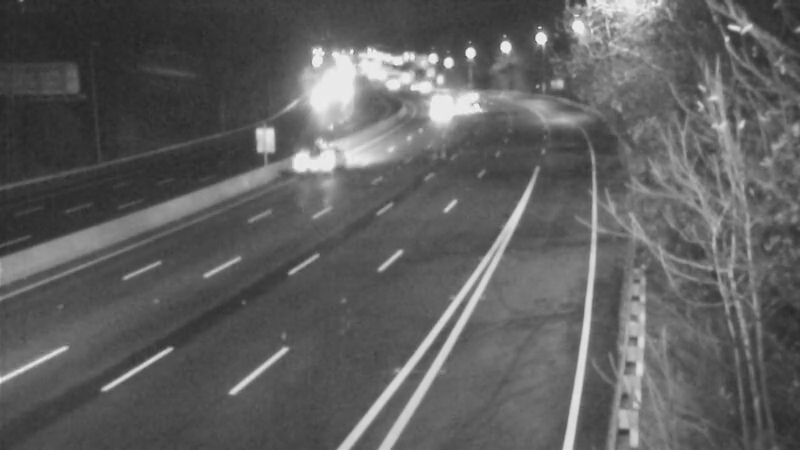vehicle: (289, 116, 369, 196), (416, 86, 466, 136), (297, 78, 347, 128)
